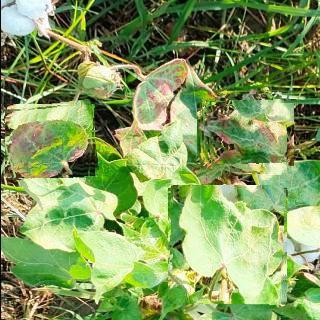blight: (203, 94, 286, 176)
curl: (167, 186, 286, 304)
leaf spot: (4, 102, 96, 178)
